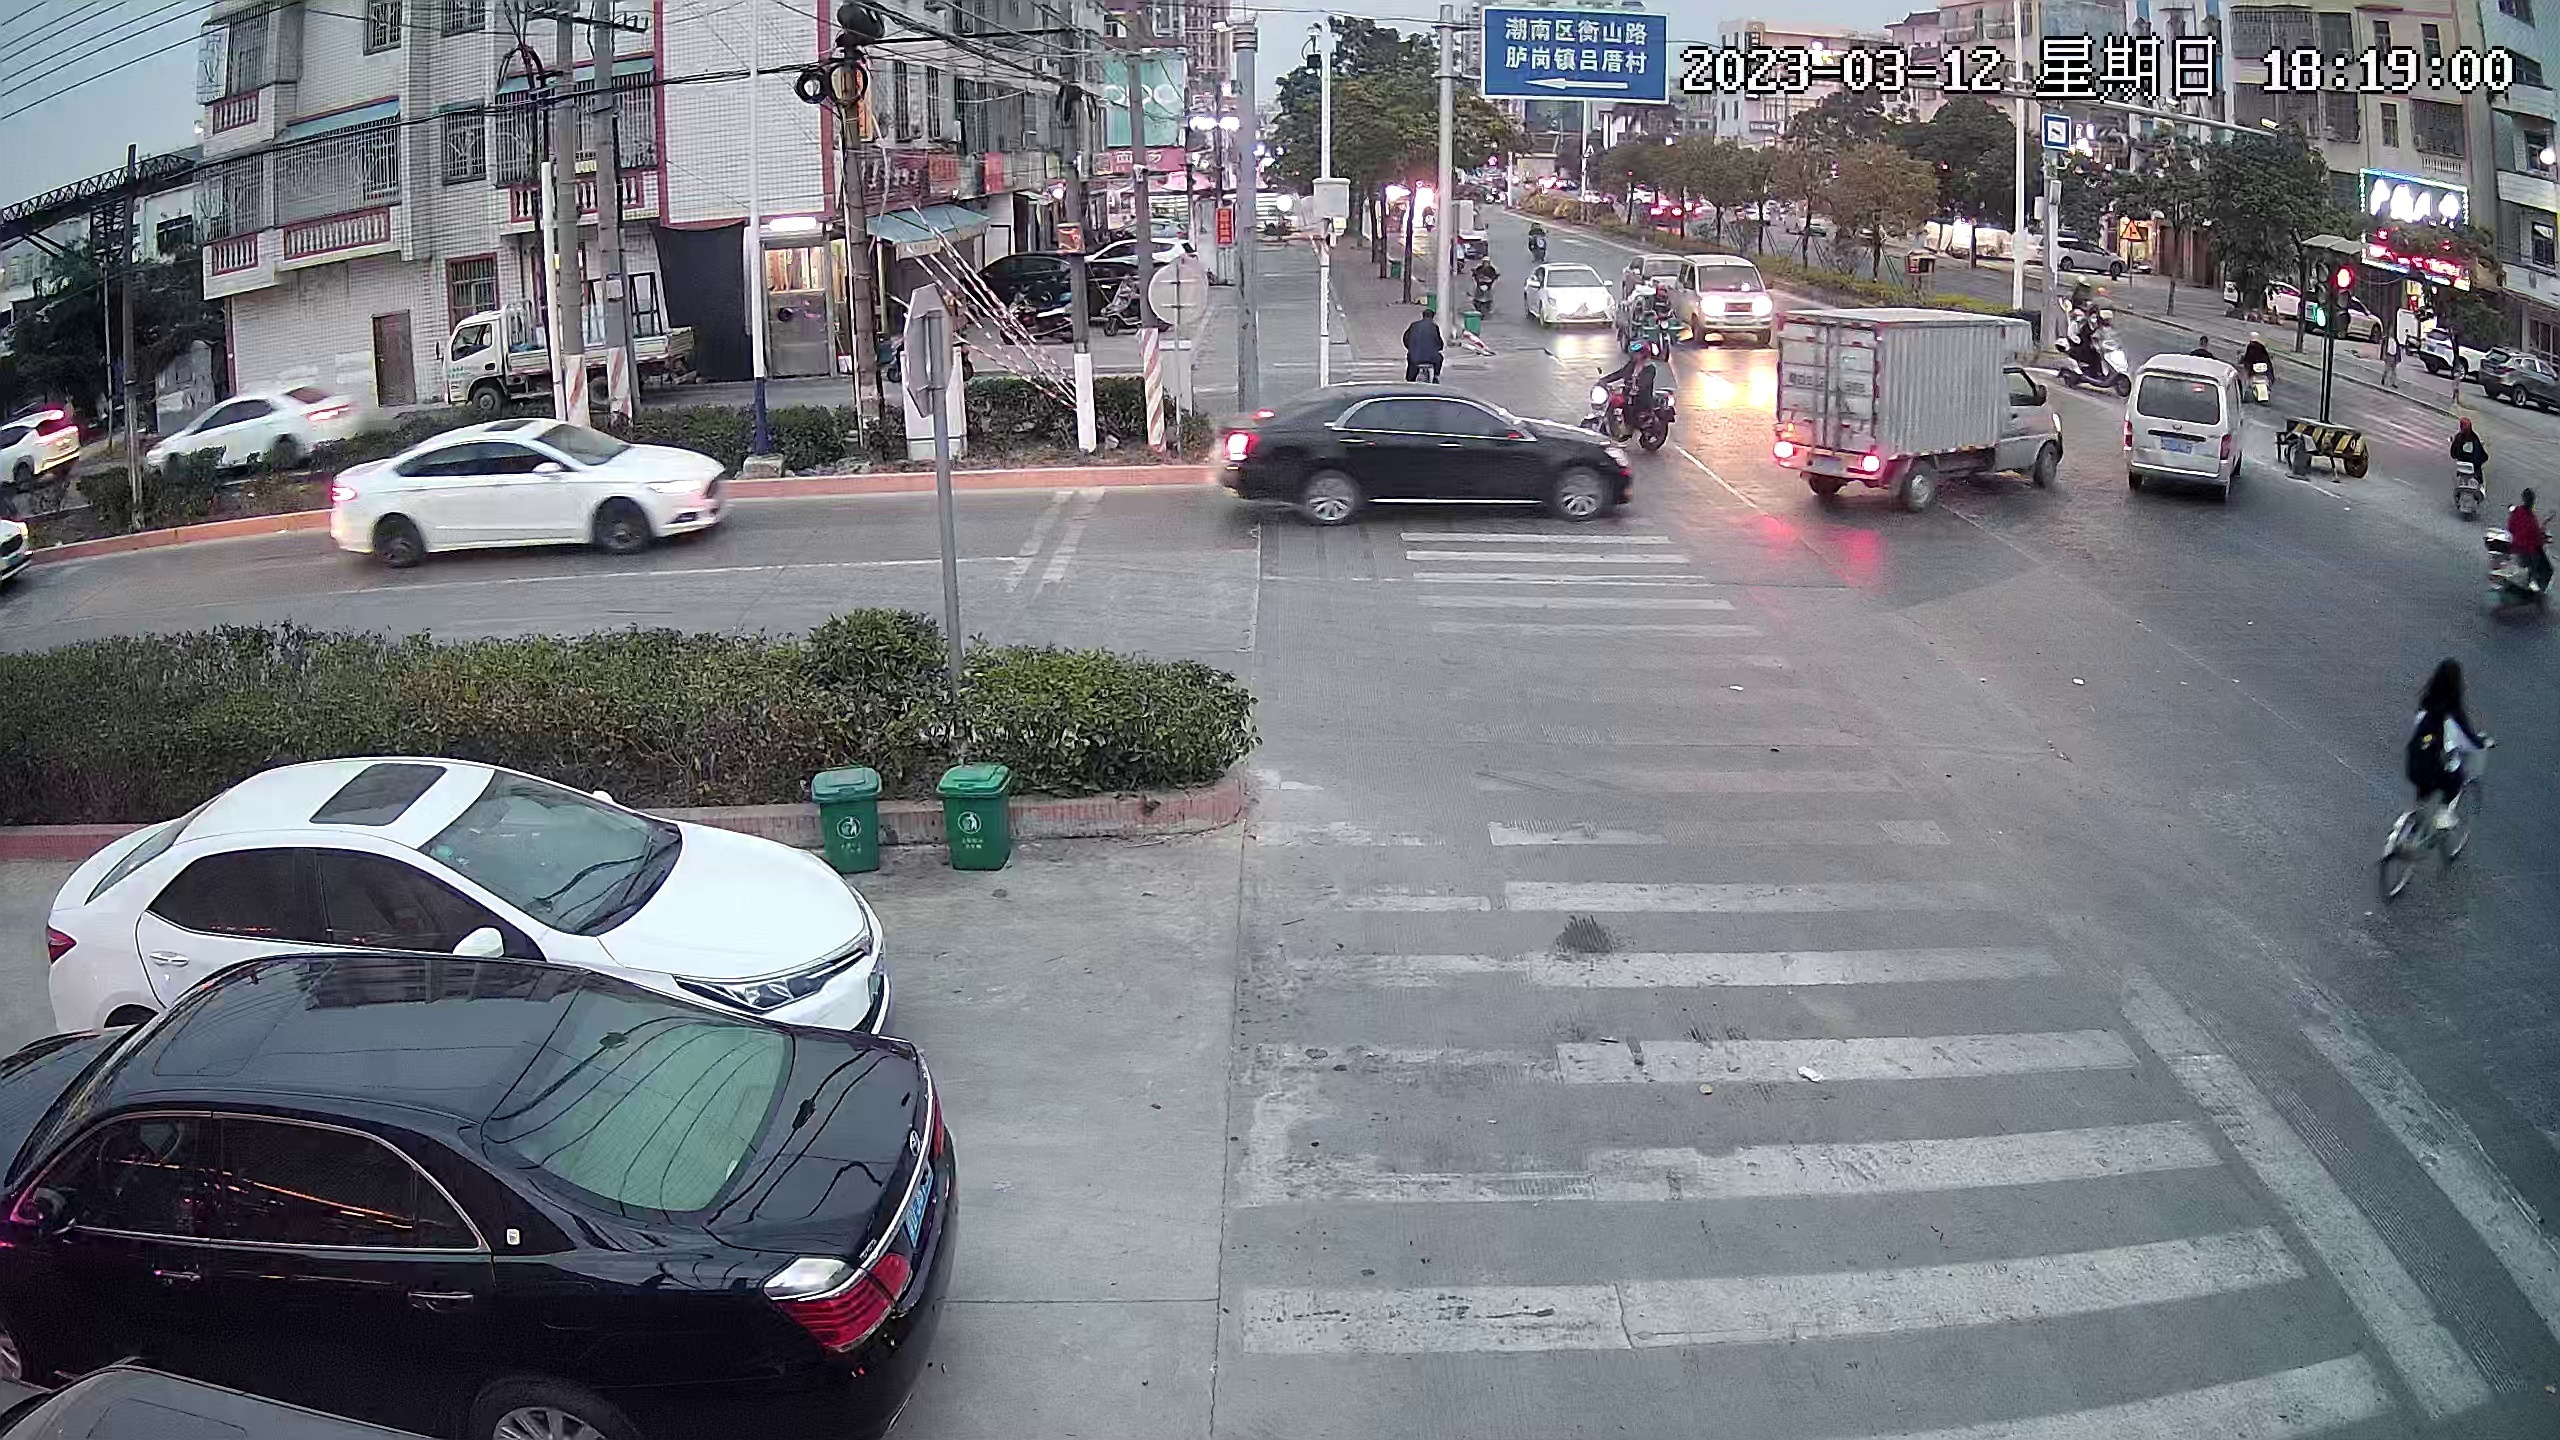bicycle: (2367, 648, 2475, 902)
head: (1620, 344, 1653, 390)
motorcycle: (2477, 494, 2559, 613), (1594, 345, 1670, 453), (2059, 302, 2133, 398), (2444, 414, 2492, 530), (1010, 287, 1072, 348), (1405, 294, 1442, 383), (2239, 330, 2279, 412), (1114, 280, 1164, 330), (1468, 252, 1500, 315), (1525, 215, 1552, 274)
person: (2413, 654, 2474, 845), (2510, 487, 2552, 599), (2372, 324, 2408, 390)
sedan: (17, 965, 972, 1415), (37, 757, 890, 1024), (1228, 384, 1632, 528), (330, 427, 730, 547), (149, 393, 358, 458), (1528, 263, 1609, 334), (2040, 230, 2133, 280), (2224, 274, 2292, 318), (1628, 249, 1678, 282)
suv: (2, 405, 97, 488), (1693, 259, 1770, 340), (2484, 345, 2560, 417), (982, 254, 1078, 293), (1102, 235, 1190, 275), (2304, 294, 2370, 337), (2422, 328, 2469, 378)
tricycle: (1622, 284, 1680, 359)
truck: (1777, 309, 2064, 504), (435, 299, 688, 399)
van: (2134, 360, 2238, 505)
